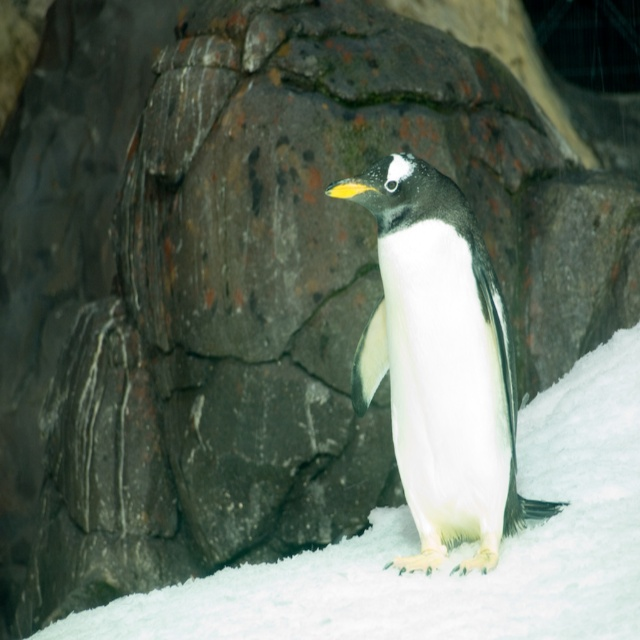Penguin: (321, 149, 556, 580)
